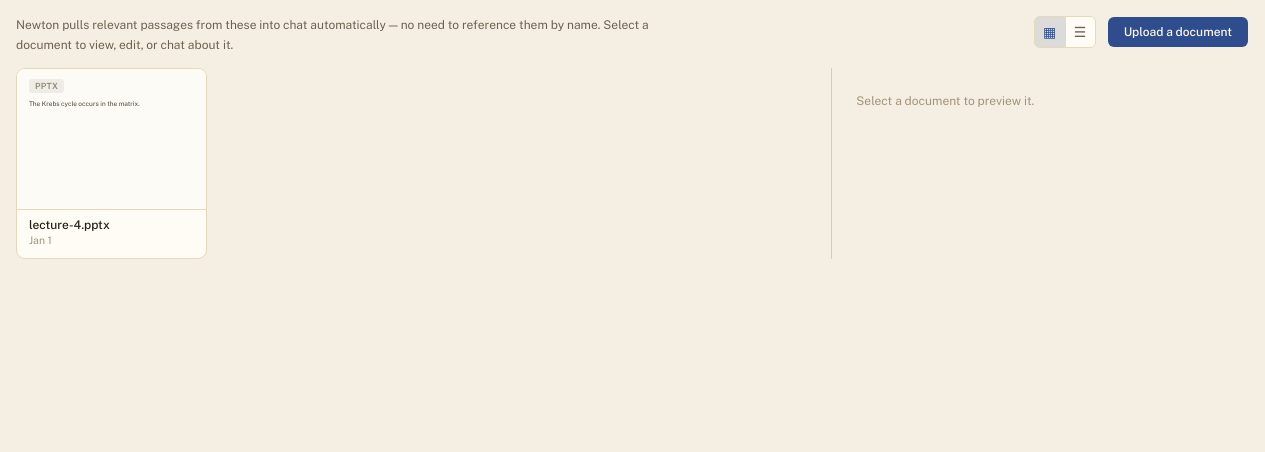
it: DocumentsPanel › shows a .pptx's extracted text rather than an empty PDF frame
Step 1. Click the text "lecture-4.pptx" → (69, 225), box [29,218,110,232]
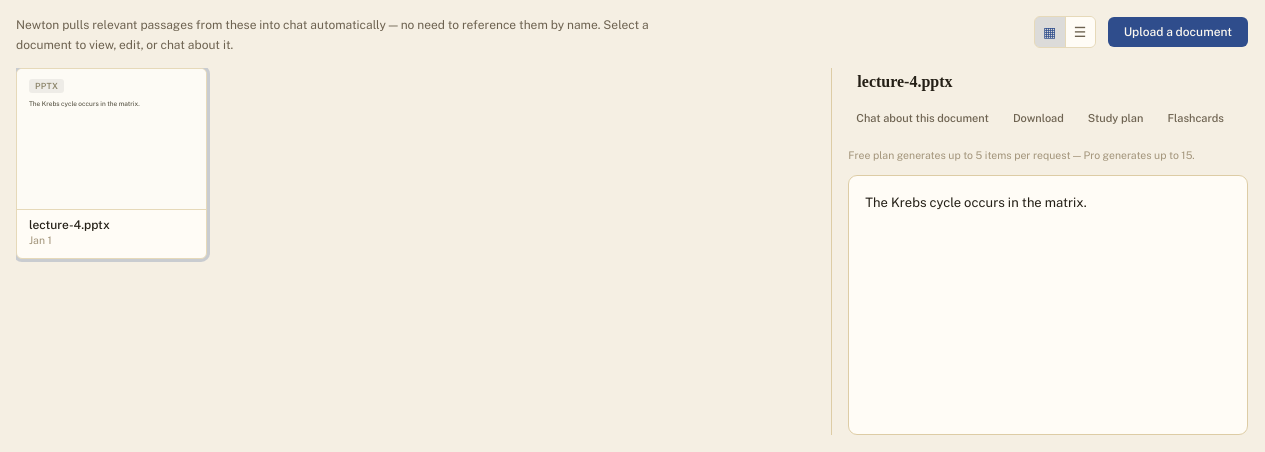
Result: the text "The Krebs cycle occurs in the matrix." below "Free plan generates up to" is shown at [865,195,1087,210]
